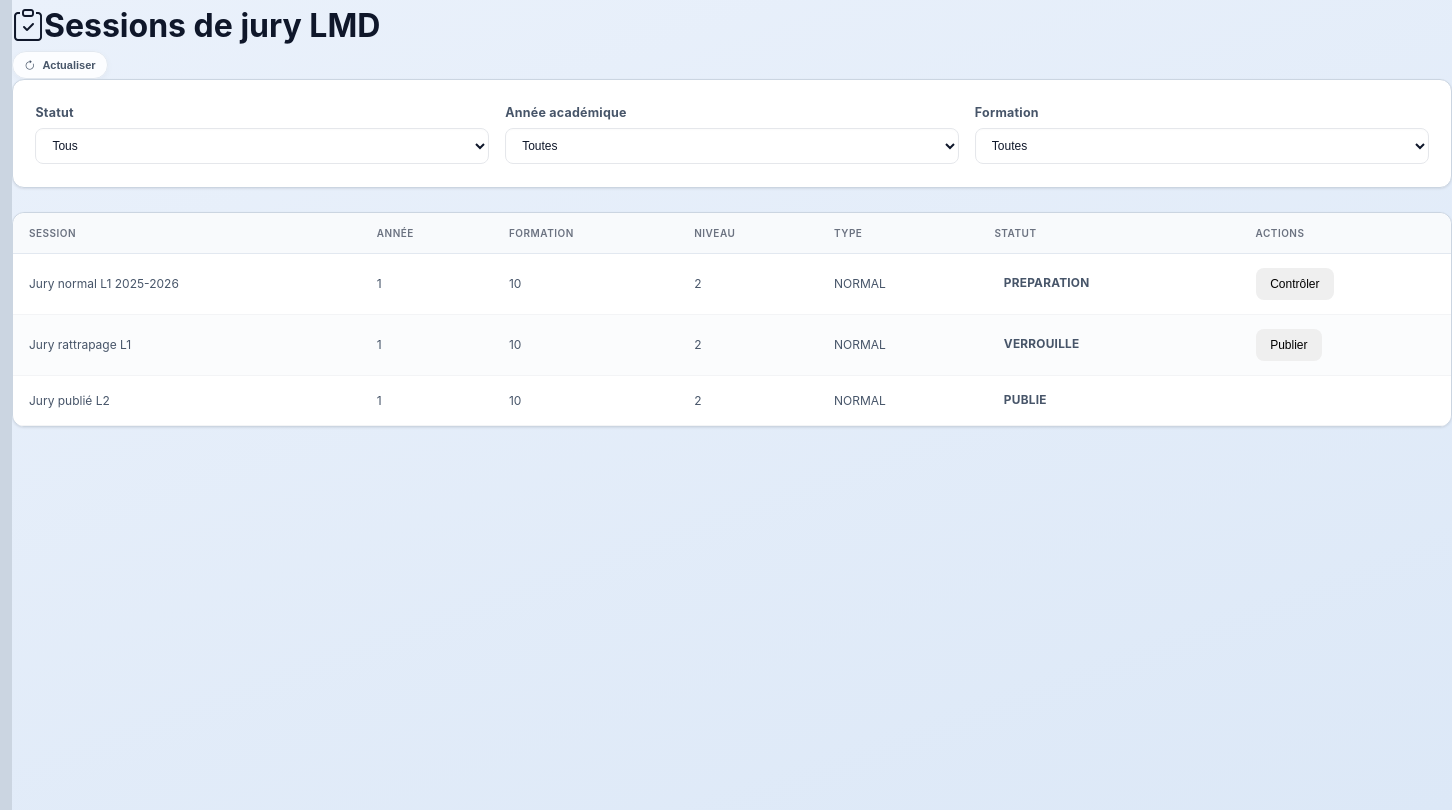
it: pages/scolarite/Jurys — actions de transition › exécute « Contrôler » (PREPARATION) après confirmation, notifie et recharge
Expected: the text "Jury normal L1 2025-2026" is shown, [13,254,361,314]
Click the button "Contrôler" at (1295, 284), box [1256,268,1334,300]
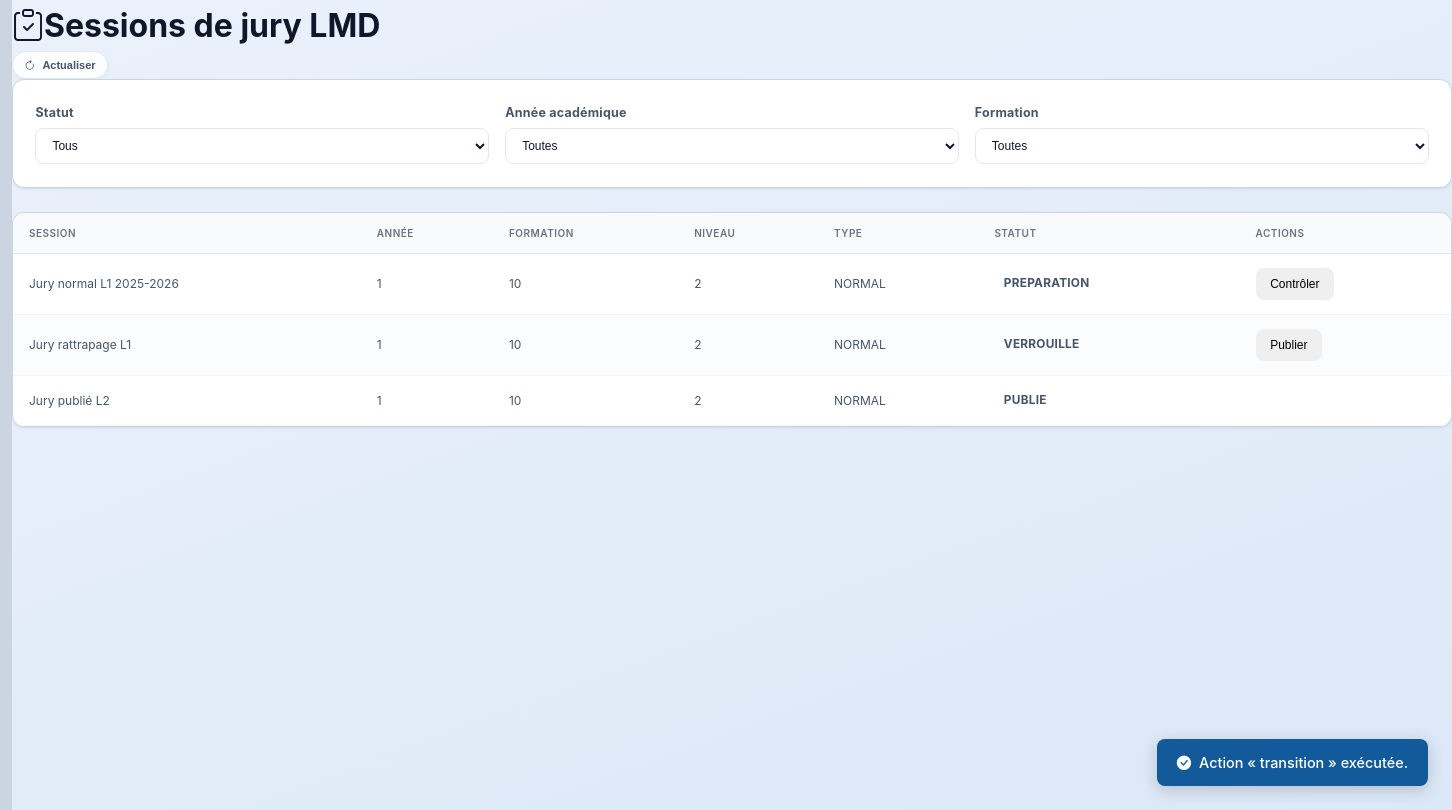
Expected: the text "Action « transition » exécutée." is shown, [1157,739,1428,786]
